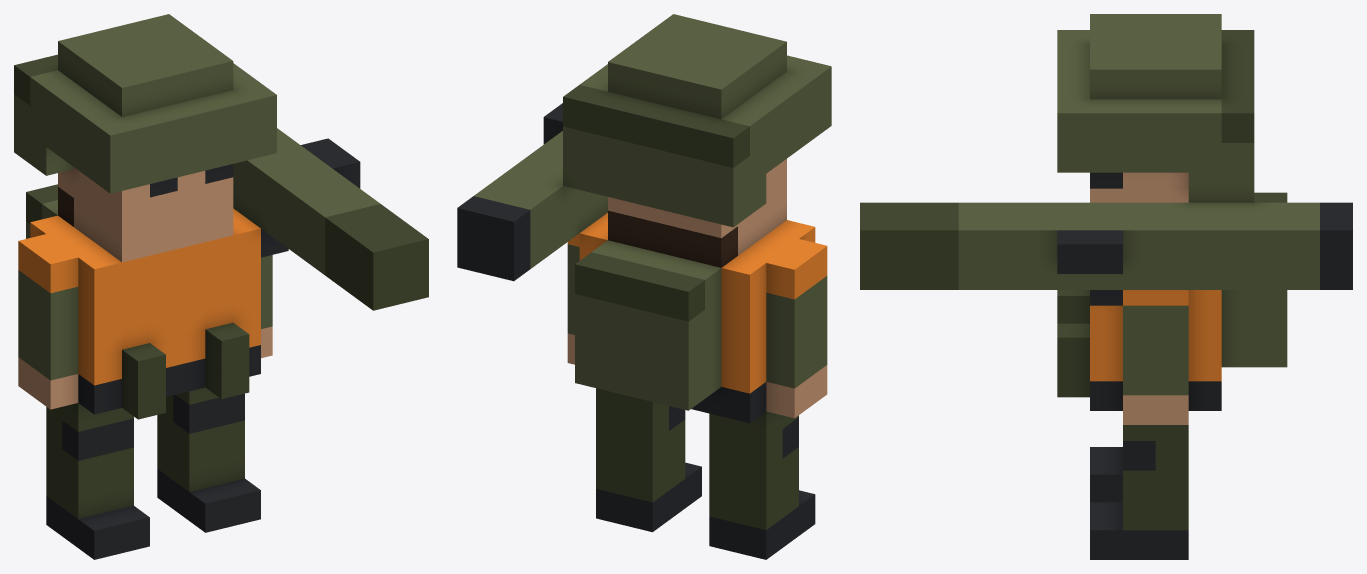
3 views of the same model, side by side, from view 1: azimuth 30°, elevation 25°; view 2: azimuth 150°, elevation 25°; view 3: azimuth 270°, elevation 25° (orthographic). The views are drawn at different scales.
Visible parts, largest first — view 1: cm_at_5_body; view 2: cm_at_5_body; view 3: cm_at_5_body.
Part boxes in pixels (<box>): cm_at_5_body: <box>14,14,428,559</box>; cm_at_5_body: <box>457,14,831,559</box>; cm_at_5_body: <box>860,14,1352,559</box>.
Bounding box in the file's own units: 0.625 × 1 × 0.9375.
Materials: 1 (1 with a texture image).
